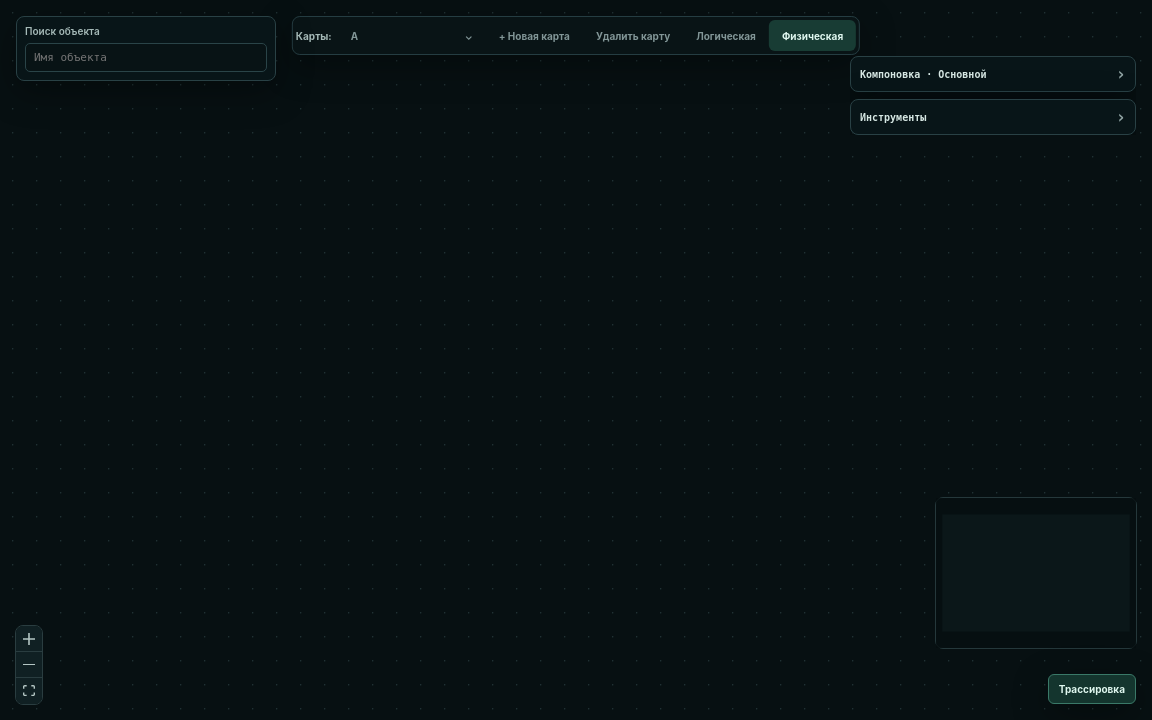
MapPage SavedMap scope › disables deletion for the primary layout
The width and height of the screenshot is (1152, 720).
What coordinates should you click on to do the following:
click the button "Компоновка · Основной ›"
I would click on:
 (923, 74)
Its box is [851,57,1135,91].
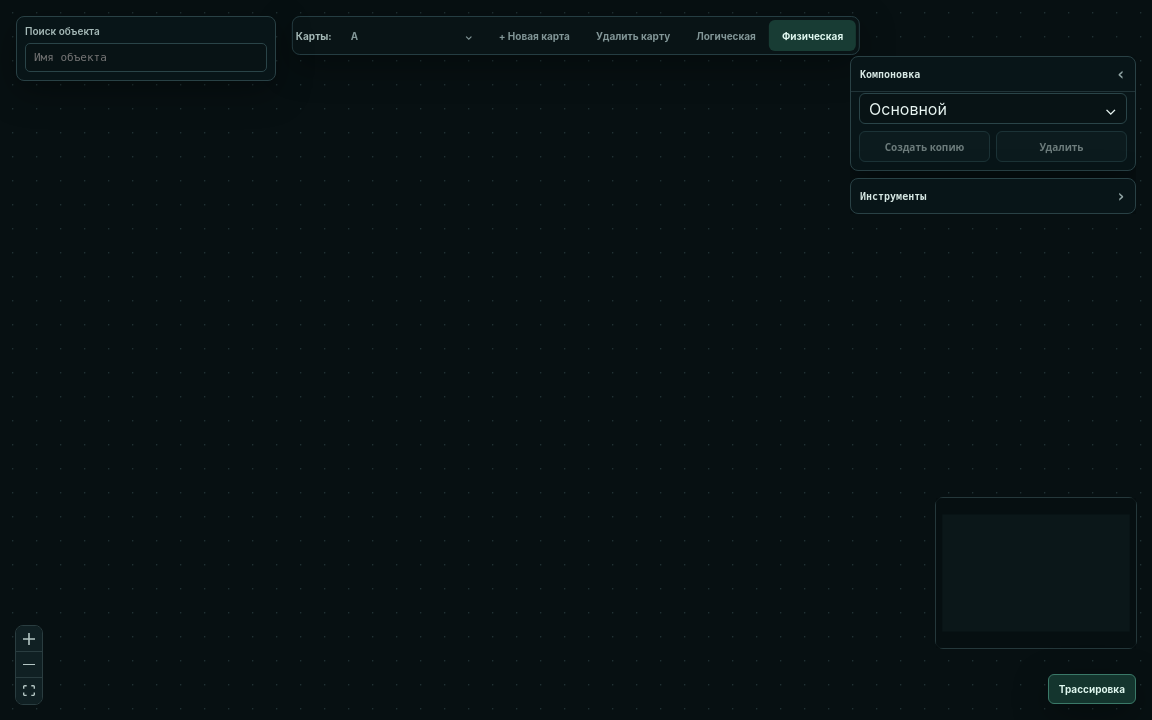
Now the button "Удалить" is disabled, box [996,131,1127,162]
